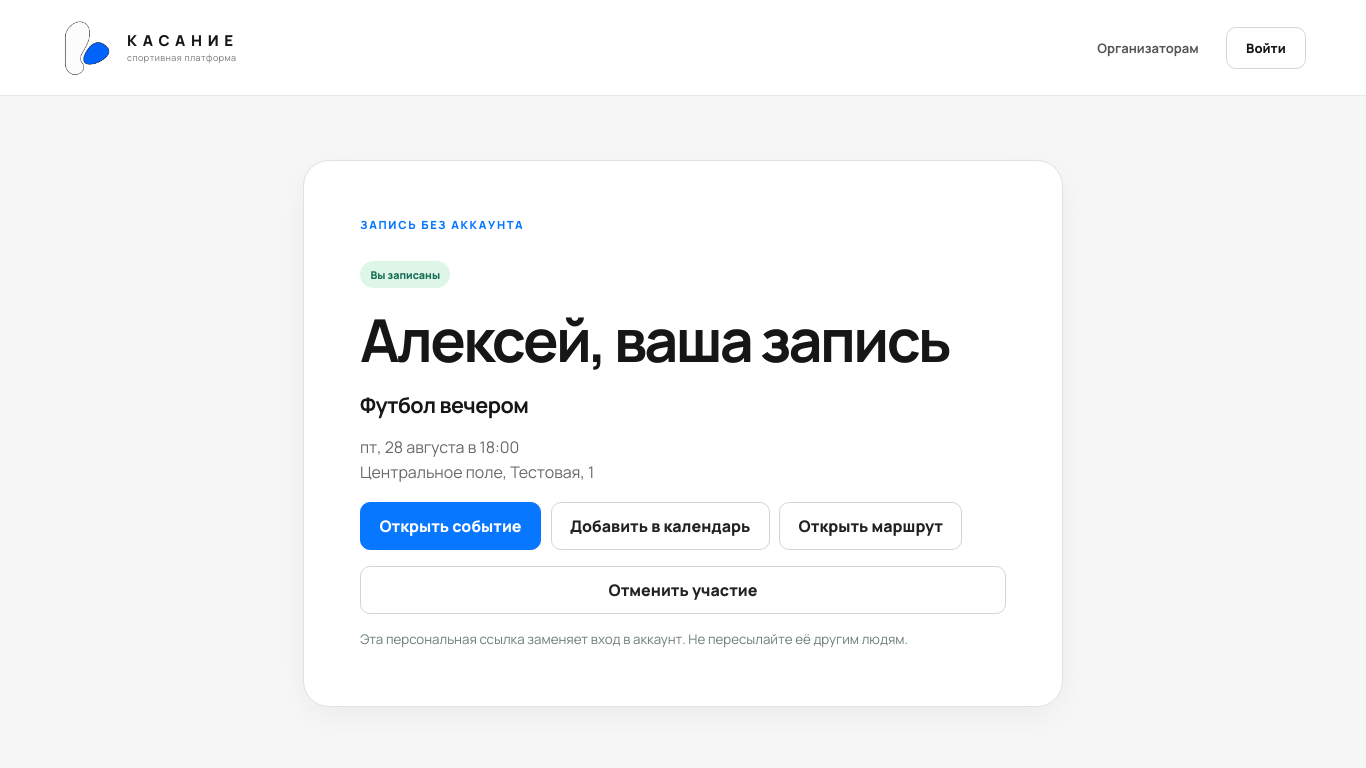
Test case: critical workflows › lets a guest cancel participation using only the private management link
Expected: the heading "Алексей, ваша запись" is shown, [360, 307, 1006, 374]
Click the button "Отменить участие": click(683, 590) [360, 566, 1006, 614]
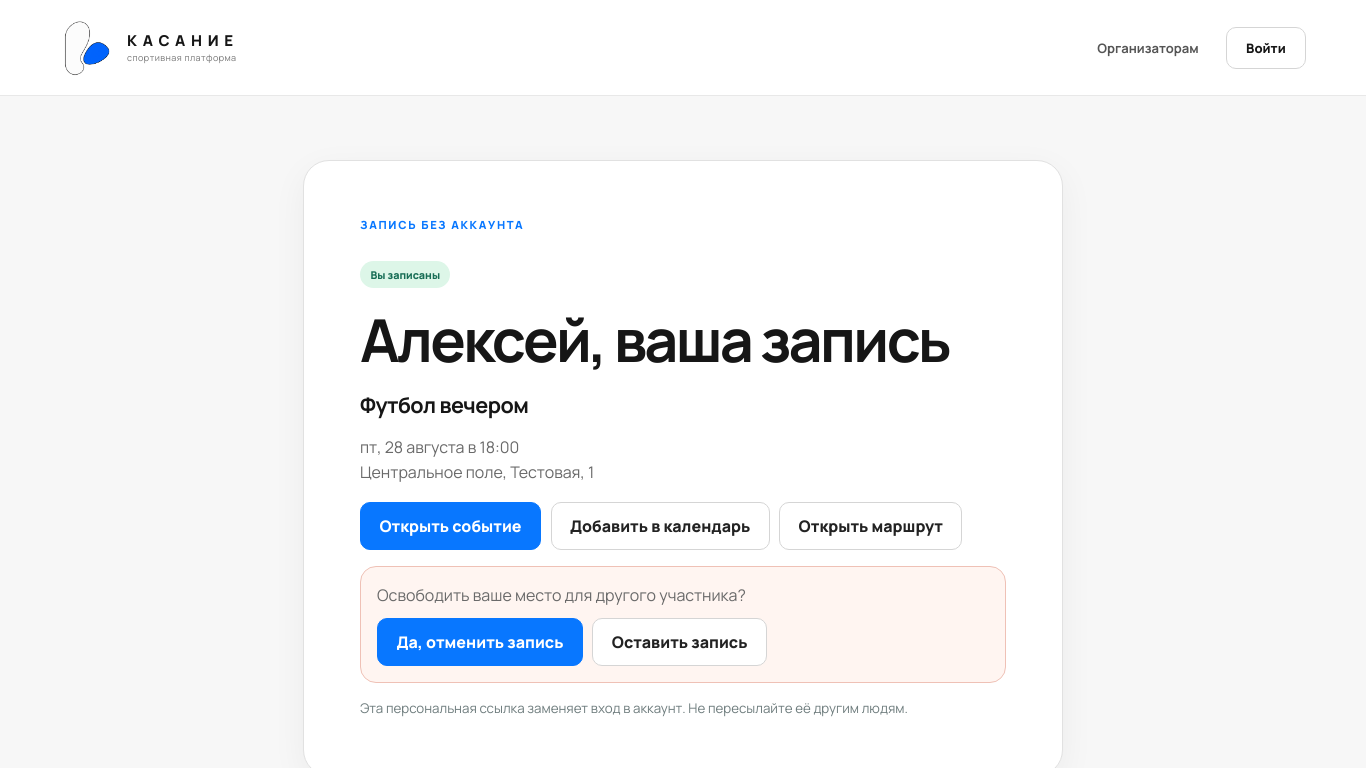
Click the button "Да, отменить запись": click(480, 642) [377, 618, 583, 666]
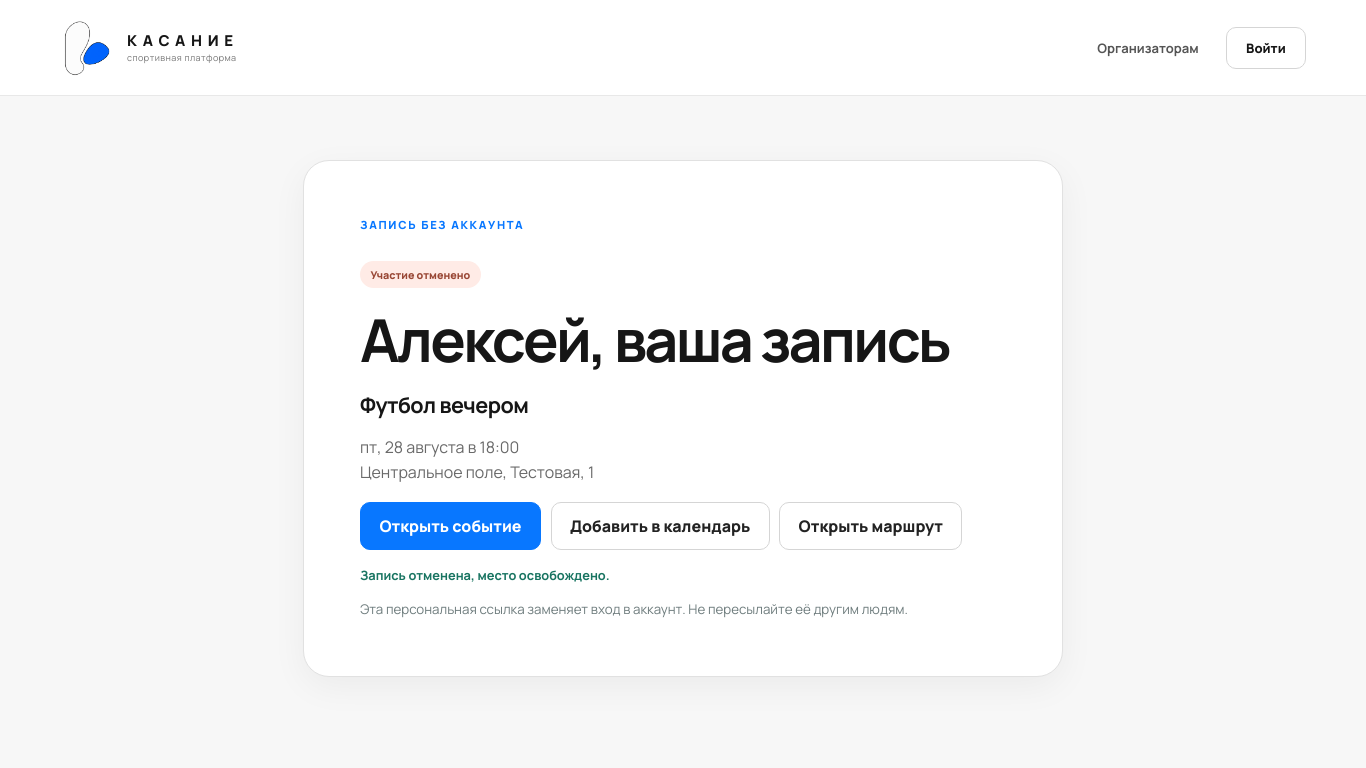
Expected: the text "Запись отменена, место освобождено." is shown, [360, 566, 610, 584]
